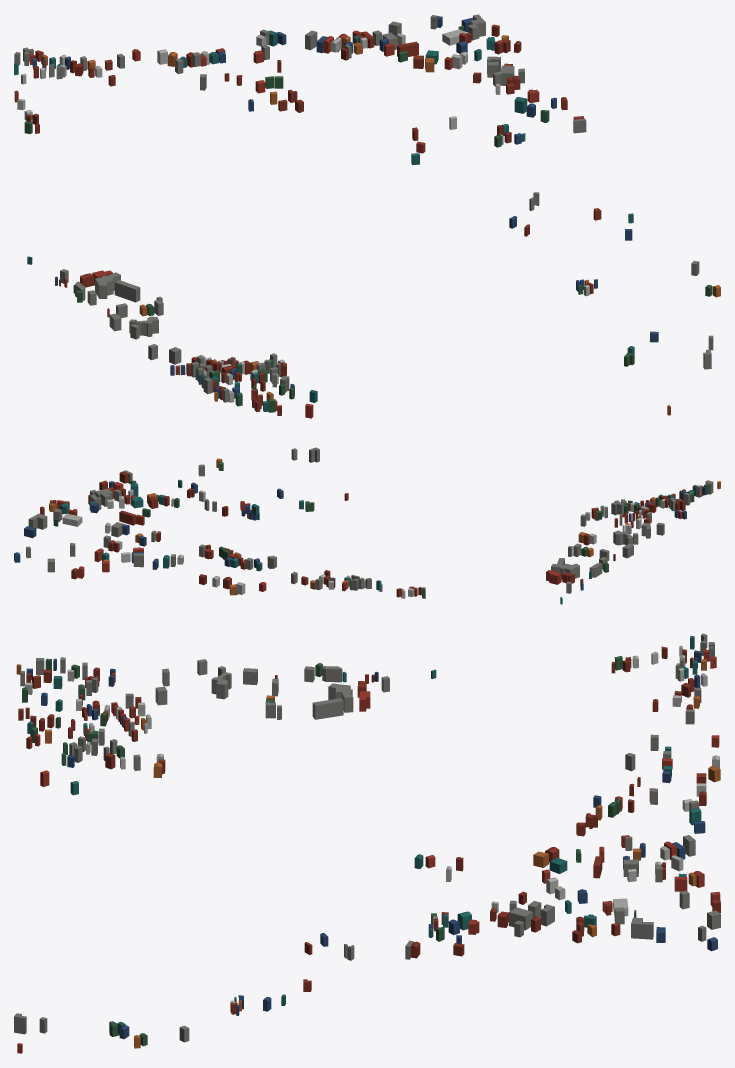
Rendered from near-15-27364-14869.b90740dd.glb.
The picture shows the model from 3 angles, top to bottom: view 1: azimuth 30°, elevation 25°; view 2: azimuth 150°, elevation 25°; view 3: azimuth 270°, elevation 25°; orthographic projection. The views are drawn at different scales.
Bounding box in the file's own units: 1186 × 434 × 1176.
